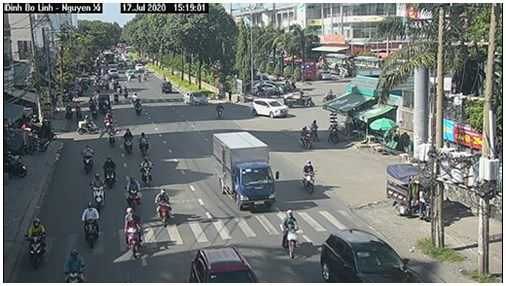xe_ba_gac: (387, 159, 445, 221)
xe_hoi: (320, 225, 421, 283), (191, 244, 262, 283), (249, 94, 288, 125), (185, 88, 214, 115)
xe_may: (117, 205, 147, 263), (58, 244, 95, 282), (276, 209, 303, 259), (25, 216, 48, 270), (298, 154, 323, 201), (152, 185, 176, 230), (81, 201, 100, 248), (126, 174, 144, 214), (138, 155, 157, 192), (297, 120, 316, 154), (104, 153, 120, 191), (120, 126, 137, 156), (136, 132, 153, 161), (82, 145, 95, 178), (212, 100, 229, 125), (104, 122, 117, 151)
xe_tai: (211, 128, 279, 217)
